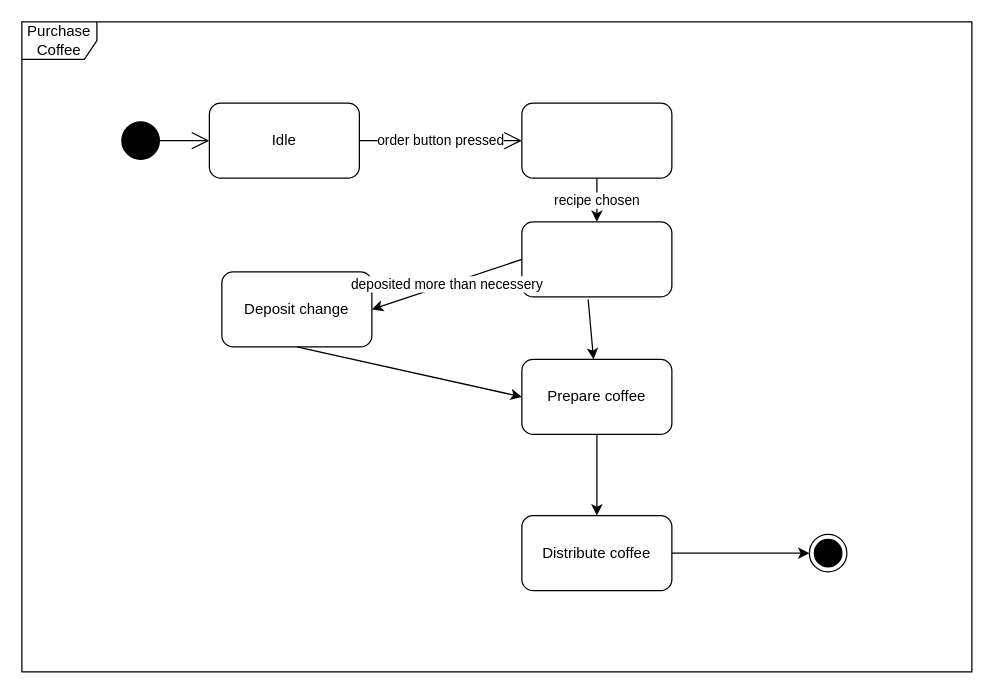
Image size: 994x694. Some labels were removed from this diagram. Here are the shapes that lost their labels. From the top down, the box of each, then its label:
(521, 102, 672, 178): Display reciepies
(521, 221, 672, 297): Receive payment
